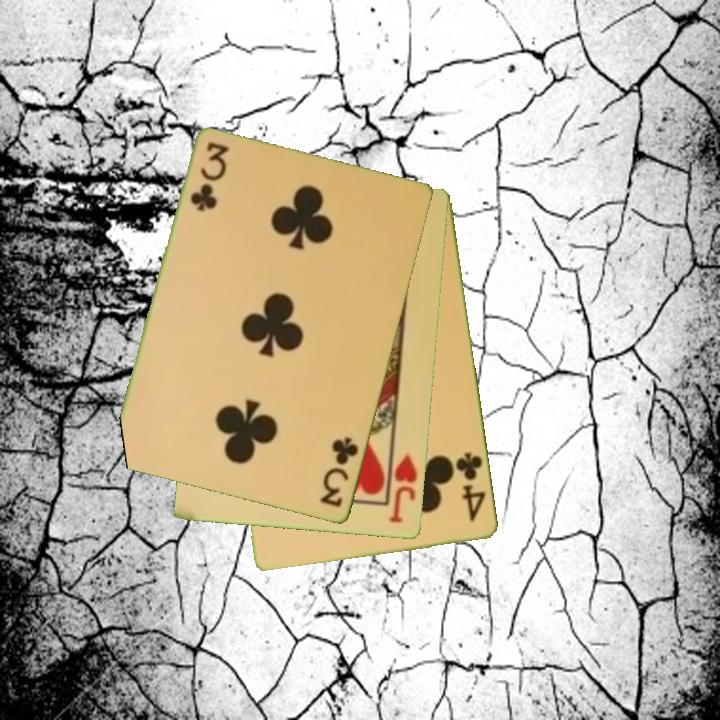3c: (317, 434, 362, 510), (187, 139, 229, 215)
4c: (452, 449, 490, 525)
Jh: (386, 450, 421, 527)
